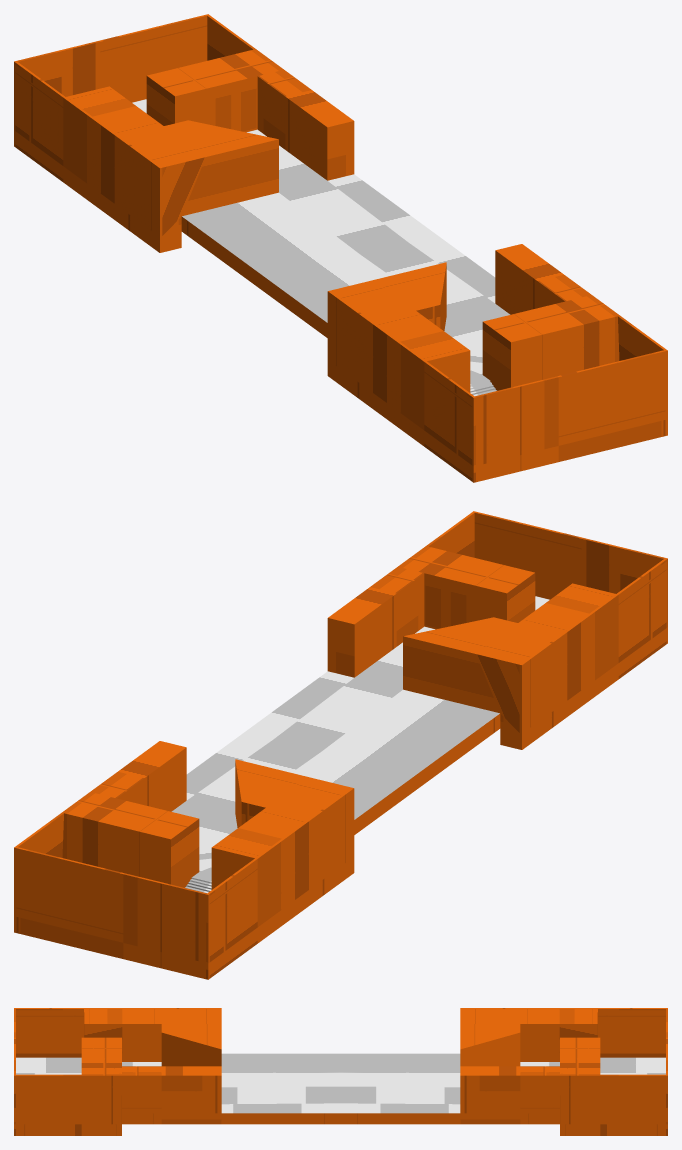
Rendered from testmp.glb.
3 renders of one model, top to bottom at view 1: azimuth 30°, elevation 25°; view 2: azimuth 150°, elevation 25°; view 3: azimuth 270°, elevation 25°, orthographic. The views are drawn at different scales.
Visible parts, largest first — view 1: Cube; view 2: Cube; view 3: Cube.
Boxes of the visible parts, x1=… form: Cube: x1=14, y1=14, x2=667, y2=482; Cube: x1=14, y1=511, x2=667, y2=979; Cube: x1=14, y1=1008, x2=667, y2=1135.
Size of the model in its own units: 40 by 16.7 by 164.
Materials: 2 (2 with a texture image).
